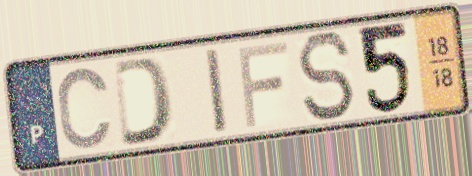5: (353, 17, 416, 116)
C: (55, 64, 116, 153)
D: (111, 54, 177, 150)
F: (235, 38, 291, 130)
I: (202, 45, 232, 138)
S: (294, 29, 358, 124)
